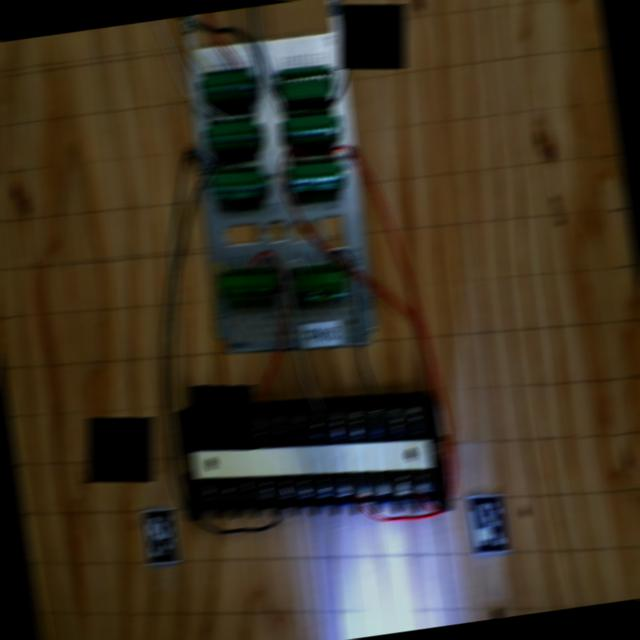Flathead_Block: (175, 398, 452, 523)
Terminal_1: (289, 261, 348, 302), (219, 266, 277, 303)
Terminal_2: (288, 155, 344, 193), (283, 107, 338, 145), (210, 165, 264, 202), (200, 67, 254, 103), (205, 117, 259, 152)
